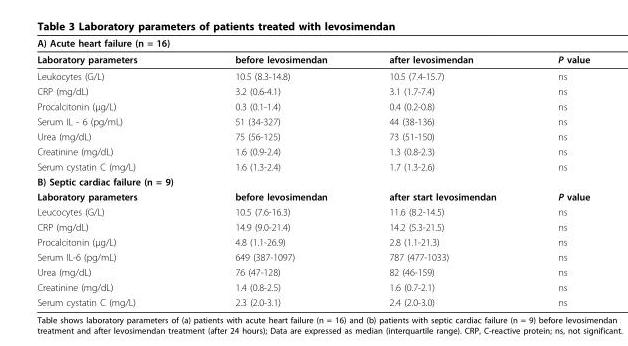table: (36, 36, 589, 307)
table column: (357, 36, 526, 307), (36, 36, 203, 307), (203, 36, 357, 307), (526, 36, 589, 307)
table column header: (36, 36, 589, 50)
table projected row header: (36, 173, 589, 188)
table row: (36, 50, 589, 67), (36, 67, 589, 83), (36, 203, 589, 219), (36, 83, 589, 98), (36, 98, 589, 113), (36, 113, 589, 128), (36, 128, 589, 143), (36, 143, 589, 158), (36, 158, 589, 173), (36, 173, 589, 188), (36, 188, 589, 203), (36, 219, 589, 234), (36, 234, 589, 249), (36, 249, 589, 264), (36, 264, 589, 279), (36, 279, 589, 294), (36, 36, 589, 50), (36, 294, 589, 307)
